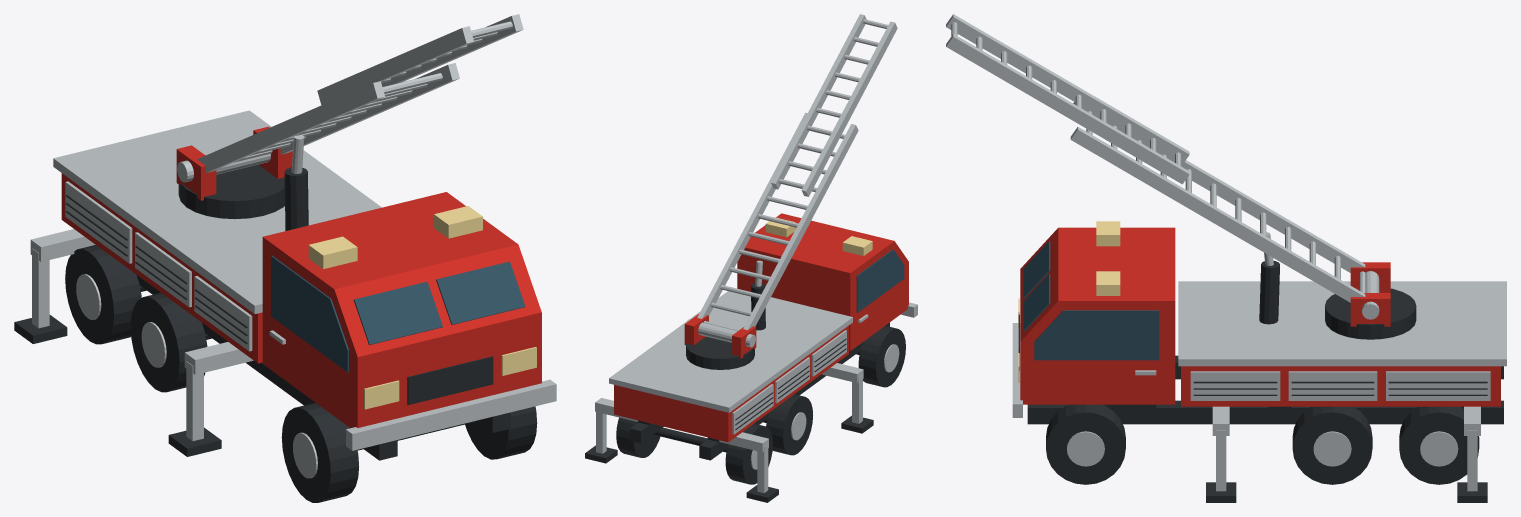
3 renders of one model, left to right at view 1: azimuth 30°, elevation 25°; view 2: azimuth 150°, elevation 25°; view 3: azimuth 270°, elevation 25°, orthographic. The views are drawn at different scales.
Visible parts, largest first — view 1: NewCabExterior, RearDeck, RoadTire0_-1, RoadTire2_-1, FrontBumper, CabOpaqueSideWindow-1, RoadTire1_-1, FixedTurntable, OpaqueWindshield-1, OpaqueWindshield1, OuterContinuousRail-1, RearCompartmentBody (+26 smaller); view 2: RearDeck, NewCabExterior, RearCompartmentBody, OuterContinuousRail-1, InnerContinuousRail-1, RoadTire0_-1, InnerContinuousRail1, RoadTire1_-1, CabOpaqueSideWindow-1, OuterContinuousRail1, FixedTurntable, RoadTire2_-1 (+16 smaller); view 3: RearDeck, NewCabExterior, CabOpaqueSideWindow1, OuterContinuousRail1, ChassisRail0.56, RearCompartmentBody, RoadTire0_1, RoadTire1_1, InnerContinuousRail1, InnerContinuousRail-1, RoadTire2_1, SideShutter1_2 (+17 smaller).
Boxes of the visible parts, bbox=[...] form: NewCabExterior: bbox=[262, 192, 541, 428]; RearDeck: bbox=[53, 110, 381, 313]; RoadTire0_-1: bbox=[281, 402, 358, 502]; RoadTire2_-1: bbox=[65, 245, 141, 344]; FrontBumper: bbox=[346, 379, 556, 450]; CabOpaqueSideWindow-1: bbox=[271, 255, 348, 372]; RoadTire1_-1: bbox=[130, 293, 207, 392]; FixedTurntable: bbox=[178, 164, 284, 219]; OpaqueWindshield-1: bbox=[353, 281, 442, 344]; OpaqueWindshield1: bbox=[436, 261, 525, 324]; OuterContinuousRail-1: bbox=[197, 81, 384, 172]; RearCompartmentBody: bbox=[61, 173, 262, 363]; RearDeck: bbox=[609, 291, 852, 412]; NewCabExterior: bbox=[737, 213, 908, 350]; RearCompartmentBody: bbox=[614, 325, 848, 442]; OuterContinuousRail-1: bbox=[743, 124, 858, 330]; InnerContinuousRail-1: bbox=[801, 21, 897, 196]; RoadTire0_-1: bbox=[858, 325, 905, 387]; InnerContinuousRail1: bbox=[771, 14, 866, 189]; RoadTire1_-1: bbox=[766, 394, 812, 455]; CabOpaqueSideWindow-1: bbox=[856, 249, 904, 312]; OuterContinuousRail1: bbox=[697, 112, 807, 318]; FixedTurntable: bbox=[686, 336, 754, 369]; RoadTire2_-1: bbox=[725, 423, 772, 484]; RearDeck: bbox=[1178, 281, 1506, 366]; NewCabExterior: bbox=[1020, 227, 1175, 404]; CabOpaqueSideWindow1: bbox=[1034, 310, 1159, 360]; OuterContinuousRail1: bbox=[1070, 127, 1365, 302]; ChassisRail0.56: bbox=[1027, 400, 1503, 424]; RearCompartmentBody: bbox=[1181, 366, 1500, 406]; RoadTire0_1: bbox=[1046, 404, 1125, 484]; RoadTire1_1: bbox=[1292, 406, 1372, 484]; InnerContinuousRail1: bbox=[946, 34, 1189, 184]; InnerContinuousRail-1: bbox=[946, 14, 1189, 164]; RoadTire2_1: bbox=[1399, 406, 1479, 484]; SideShutter1_2: bbox=[1386, 371, 1490, 400].
Bounding box in the file's own units: 2.94 × 4.85 × 5.89.
